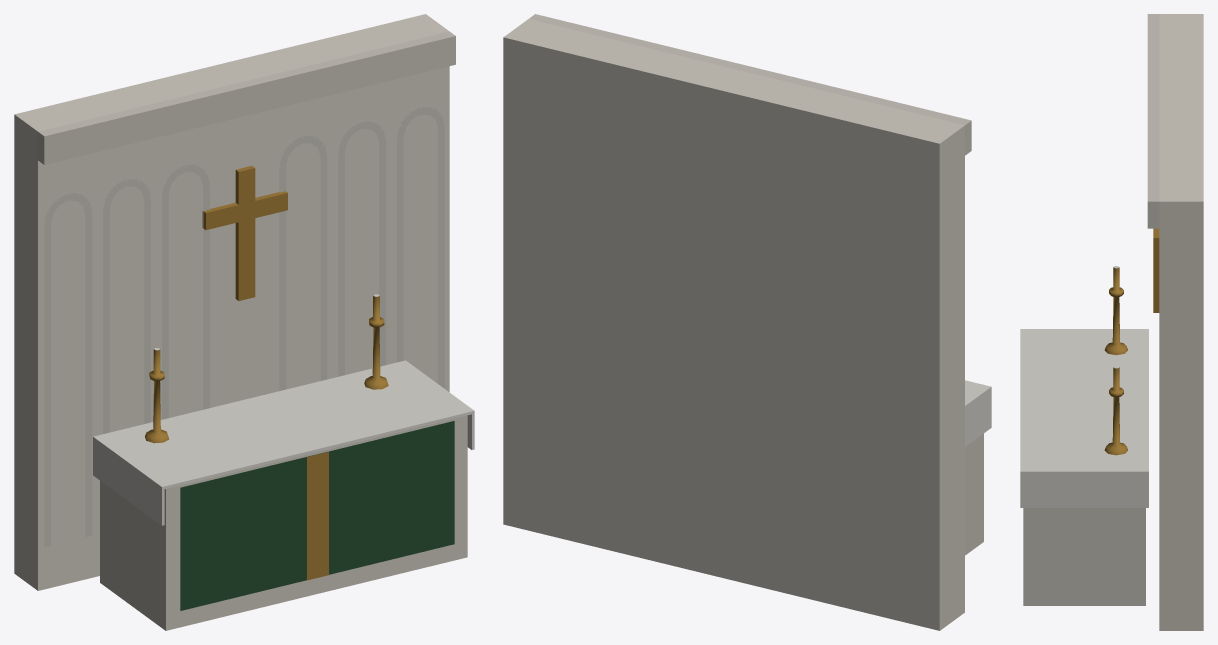
File: table.altar.green.glb
3 renders of one model, left to right at view 1: azimuth 30°, elevation 25°; view 2: azimuth 150°, elevation 25°; view 3: azimuth 270°, elevation 25°, orthographic. The views are drawn at different scales.
Visible parts, largest first — view 1: table_altar_green; view 2: table_altar_green; view 3: table_altar_green.
Boxes of the visible parts, x1,y1,x2,y2 form: table_altar_green: (14, 14, 474, 630); table_altar_green: (503, 14, 991, 630); table_altar_green: (1020, 14, 1203, 630).
Size of what is drawn, in the model's own units: 3 by 3.2 by 1.24.
